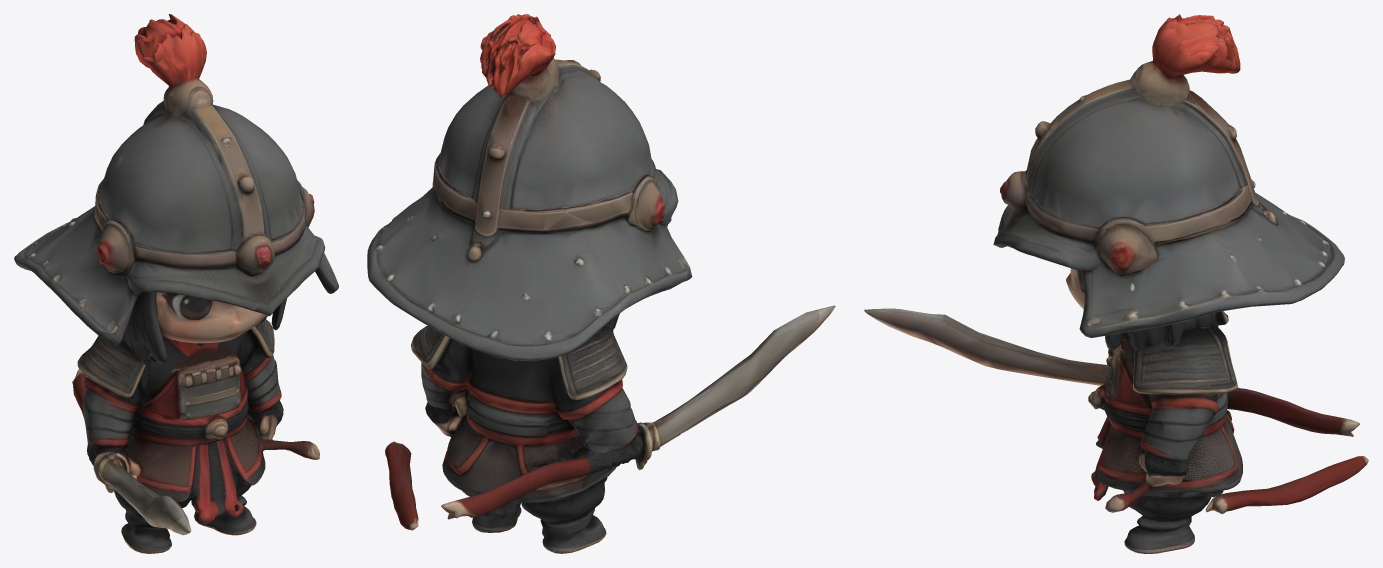
File: dong-soldier.glb
3 renders of one model, left to right at view 1: azimuth 30°, elevation 25°; view 2: azimuth 150°, elevation 25°; view 3: azimuth 270°, elevation 25°, orthographic. The views are drawn at different scales.
Size of the model in its own units: 1.13 by 2 by 1.8.
Materials: 1 (1 with a texture image).
